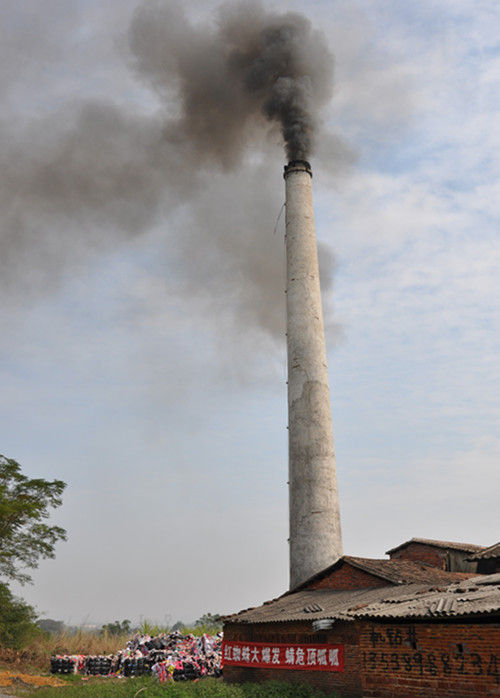dust: (151, 7, 338, 167)
